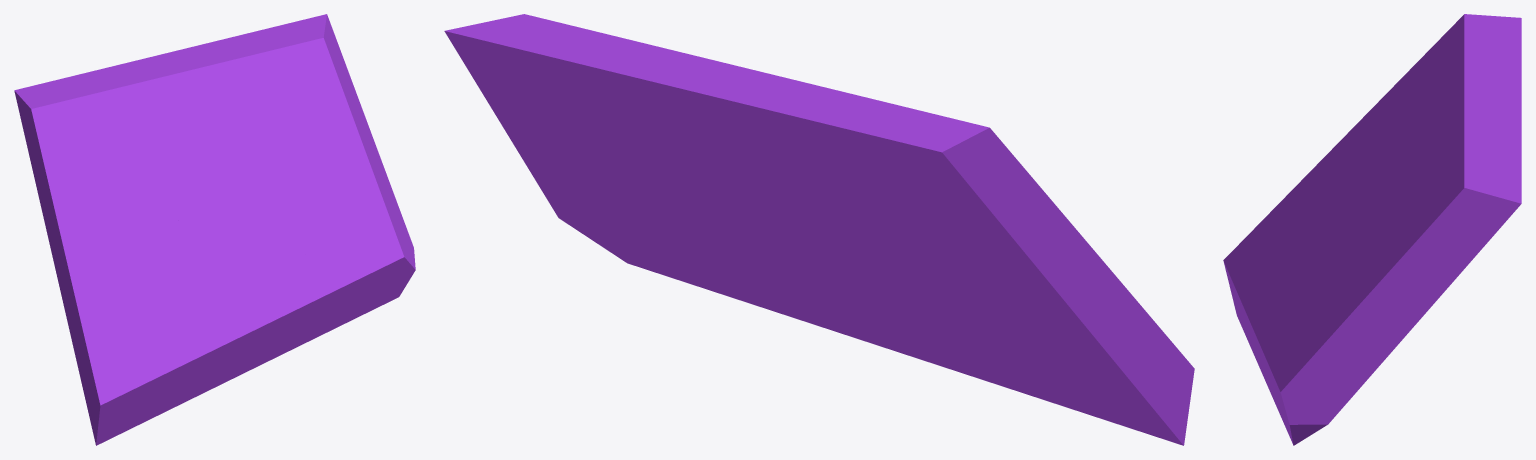
Rendered from Window_130_0_chunks.fbx.
The picture shows the model from 3 angles, left to right: view 1: azimuth 30°, elevation 25°; view 2: azimuth 150°, elevation 25°; view 3: azimuth 270°, elevation 25°; orthographic projection. The views are drawn at different scales.
Parts seen in each view (by area): view 1: Window_130_0_1, Window_130_0_5, Window_130_0_4, Window_130_0_6, Window_130_0_2, Window_130_0_8, Window_130_0_9, Window_130_0_0, Window_130_0_7, Window_130_0_3; view 2: Window_130_0_6, Window_130_0_1, Window_130_0_2, Window_130_0_0, Window_130_0_8, Window_130_0_7, Window_130_0_5, Window_130_0_3, Window_130_0_4, Window_130_0_9; view 3: Window_130_0_1, Window_130_0_6, Window_130_0_5, Window_130_0_4, Window_130_0_9, Window_130_0_8, Window_130_0_2, Window_130_0_7, Window_130_0_0, Window_130_0_3.
Boxes of the visible parts, bbox=[...] form: Window_130_0_1: bbox=[231, 14, 415, 269]; Window_130_0_5: bbox=[63, 229, 205, 365]; Window_130_0_4: bbox=[196, 196, 312, 359]; Window_130_0_6: bbox=[14, 44, 203, 191]; Window_130_0_2: bbox=[71, 310, 253, 445]; Window_130_0_8: bbox=[37, 163, 205, 300]; Window_130_0_9: bbox=[129, 53, 234, 191]; Window_130_0_0: bbox=[236, 243, 415, 376]; Window_130_0_7: bbox=[193, 37, 248, 210]; Window_130_0_3: bbox=[153, 211, 205, 249]; Window_130_0_6: bbox=[642, 71, 1031, 236]; Window_130_0_1: bbox=[444, 14, 738, 227]; Window_130_0_2: bbox=[898, 309, 1194, 445]; Window_130_0_0: bbox=[573, 213, 926, 361]; Window_130_0_8: bbox=[846, 177, 1092, 326]; Window_130_0_7: bbox=[597, 52, 849, 260]; Window_130_0_5: bbox=[1049, 249, 1167, 355]; Window_130_0_3: bbox=[838, 257, 1080, 335]; Window_130_0_4: bbox=[823, 253, 913, 330]; Window_130_0_9: bbox=[658, 49, 785, 77]; Window_130_0_1: bbox=[1276, 133, 1521, 428]; Window_130_0_6: bbox=[1404, 14, 1521, 129]; Window_130_0_5: bbox=[1255, 138, 1349, 276]; Window_130_0_4: bbox=[1249, 212, 1356, 368]; Window_130_0_9: bbox=[1370, 89, 1498, 189]; Window_130_0_8: bbox=[1343, 64, 1415, 211]; Window_130_0_2: bbox=[1223, 228, 1276, 374]; Window_130_0_7: bbox=[1353, 124, 1521, 234]; Window_130_0_0: bbox=[1263, 308, 1320, 445]; Window_130_0_3: bbox=[1325, 184, 1353, 229].
Bounding box in the file's own units: 771 × 540 × 459.
